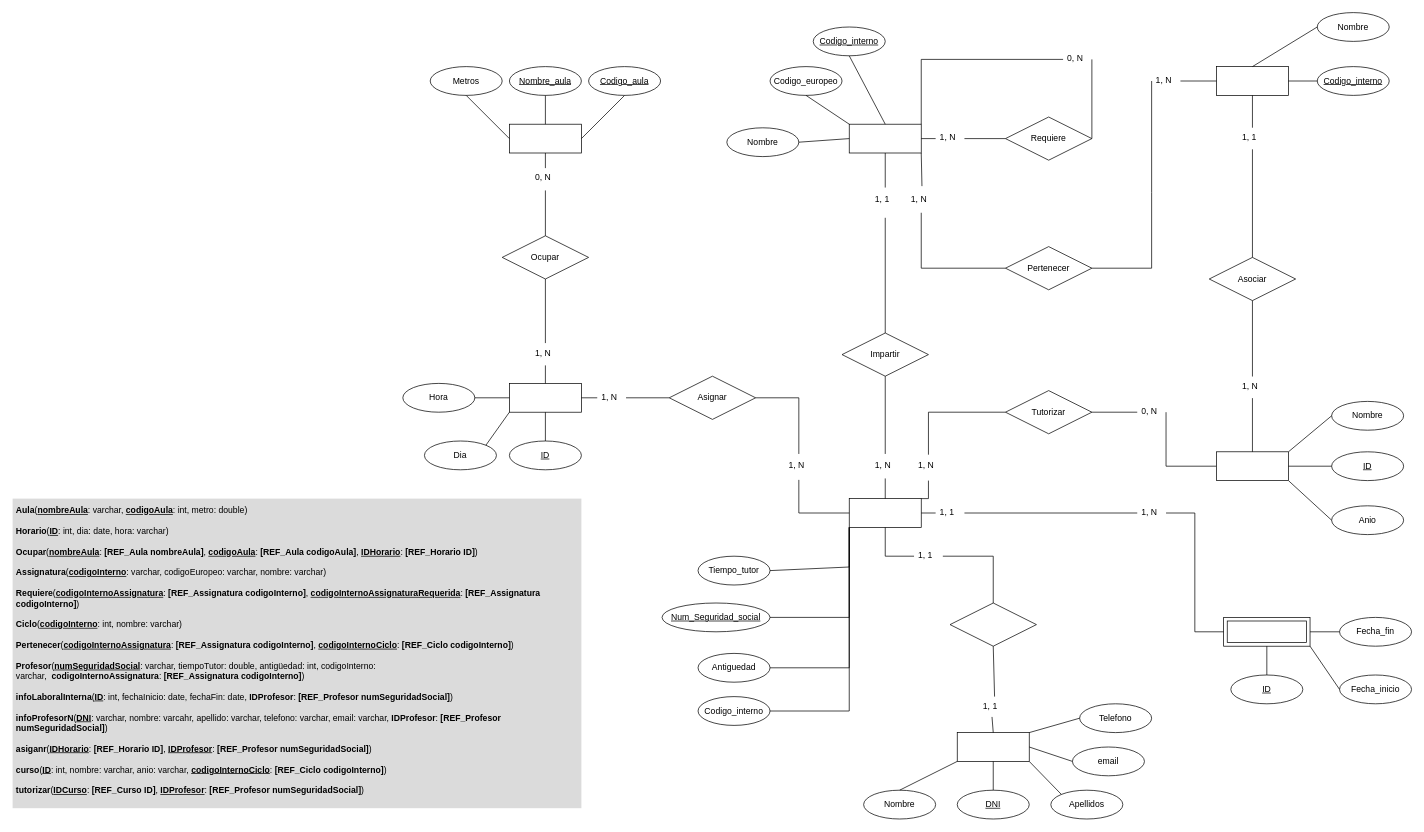
This 1424x832 diagram has some shape labels left out. Here are the shapes that lost their labels. From the top down, the centre of each, then its label:
point (1252, 80): Ciclo
point (545, 138): Aula
point (885, 138): Assignatura
point (545, 397): Horario
point (1252, 466): Curso
point (885, 512): Profesor
point (992, 624): Guardar
point (1266, 631): Info_laboral_interna
point (993, 746): Info_profesor
